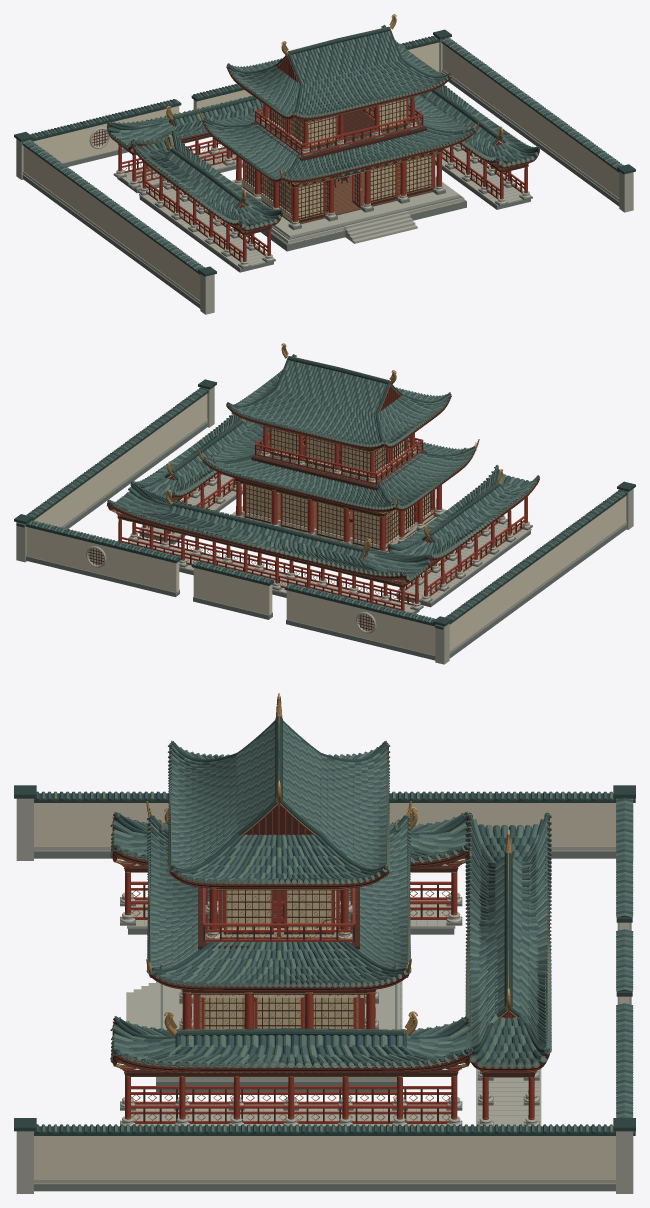
File: courtyard.glb
3 views of the same model, one above another, from view 1: azimuth 30°, elevation 25°; view 2: azimuth 150°, elevation 25°; view 3: azimuth 270°, elevation 25° (orthographic). The views are drawn at different scales.
Parts seen in each view (by area): view 1: CV2_gallery_corridor_wall, CV2_gallery_corridor_stone, CV2_roof_roof_tile1, CV2_gallery_corridor_tile1, CV2_roof_roof_tile2, CV2_roof_roof_tile3, CV2_roof_roof_tile0, CV2_gallery_corridor_stoneDark, CV2_body_column_stone, CV2_gallery_corridor_tileDark, CV2_gallery_corridor_tile3, CV2_gallery_corridor_tile2 (+17 smaller); view 2: CV2_gallery_corridor_wall, CV2_gallery_corridor_stone, CV2_gallery_corridor_tile1, CV2_roof_roof_tile1, CV2_gallery_corridor_red, CV2_gallery_corridor_tileDark, CV2_gallery_corridor_stoneDark, CV2_gallery_corridor_tile2, CV2_gallery_corridor_tile0, CV2_gallery_corridor_tile3, CV2_roof_roof_tile3, CV2_roof_roof_tile0 (+15 smaller); view 3: CV2_gallery_corridor_wall, CV2_roof_roof_tile1, CV2_gallery_corridor_tile1, CV2_gallery_corridor_stone, CV2_roof_roof_tile2, CV2_roof_roof_tile0, CV2_roof_roof_tile3, CV2_gallery_corridor_tileDark, CV2_gallery_corridor_tile2, CV2_gallery_corridor_tile0, CV2_gallery_corridor_tile3, CV2_gallery_corridor_red (+17 smaller).
Part boxes in pixels (x1,y1,x2,y2): CV2_gallery_corridor_wall: (23, 42, 619, 300); CV2_gallery_corridor_stone: (16, 37, 633, 314); CV2_roof_roof_tile1: (201, 26, 476, 180); CV2_gallery_corridor_tile1: (26, 36, 621, 271); CV2_roof_roof_tile2: (203, 33, 472, 177); CV2_roof_roof_tile3: (209, 31, 470, 177); CV2_roof_roof_tile0: (207, 27, 467, 177); CV2_gallery_corridor_stoneDark: (22, 71, 619, 308); CV2_body_column_stone: (231, 118, 464, 244); CV2_gallery_corridor_tileDark: (14, 29, 635, 276); CV2_gallery_corridor_tile3: (23, 37, 621, 269); CV2_gallery_corridor_tile2: (22, 36, 619, 273); CV2_gallery_corridor_wall: (26, 394, 626, 655); CV2_gallery_corridor_stone: (16, 386, 633, 664); CV2_gallery_corridor_tile1: (26, 389, 625, 624); CV2_roof_roof_tile1: (201, 355, 476, 509); CV2_gallery_corridor_red: (108, 449, 539, 610); CV2_gallery_corridor_tileDark: (14, 379, 635, 629); CV2_gallery_corridor_stoneDark: (26, 422, 627, 660); CV2_gallery_corridor_tile2: (26, 387, 627, 623); CV2_gallery_corridor_tile0: (27, 390, 623, 622); CV2_gallery_corridor_tile3: (30, 391, 621, 623); CV2_roof_roof_tile3: (205, 356, 474, 506); CV2_roof_roof_tile0: (207, 360, 472, 507); CV2_gallery_corridor_wall: (34, 803, 629, 1183); CV2_roof_roof_tile1: (146, 722, 411, 987); CV2_gallery_corridor_tile1: (41, 791, 633, 1133); CV2_gallery_corridor_stone: (16, 798, 633, 1193); CV2_roof_roof_tile2: (150, 727, 407, 985); CV2_roof_roof_tile0: (150, 722, 407, 985); CV2_roof_roof_tile3: (150, 724, 407, 984); CV2_gallery_corridor_tileDark: (14, 785, 635, 1135); CV2_gallery_corridor_tile2: (35, 791, 633, 1133); CV2_gallery_corridor_tile0: (47, 791, 633, 1133); CV2_gallery_corridor_tile3: (53, 791, 633, 1133); CV2_gallery_corridor_red: (113, 853, 547, 1123).
Bounding box in the file's own units: 33.54 × 13.09 × 25.74.
